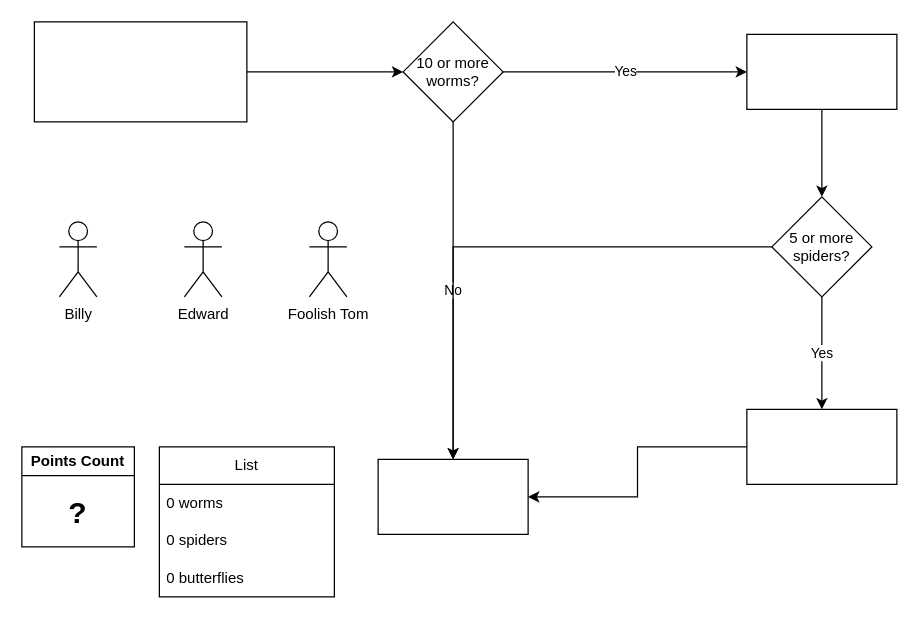
This 919x619 diagram has some shape labels left out. The centre of each missing label's shape, as x and y in pixels:
"Add butterflies * 25 to the points count" goes at point 821,446.
"Add spiders * 10 to the points count" goes at point 821,71.
"Add worms * 5 to the points count" goes at point 140,71.
"Return number of points" goes at point 452,496.
